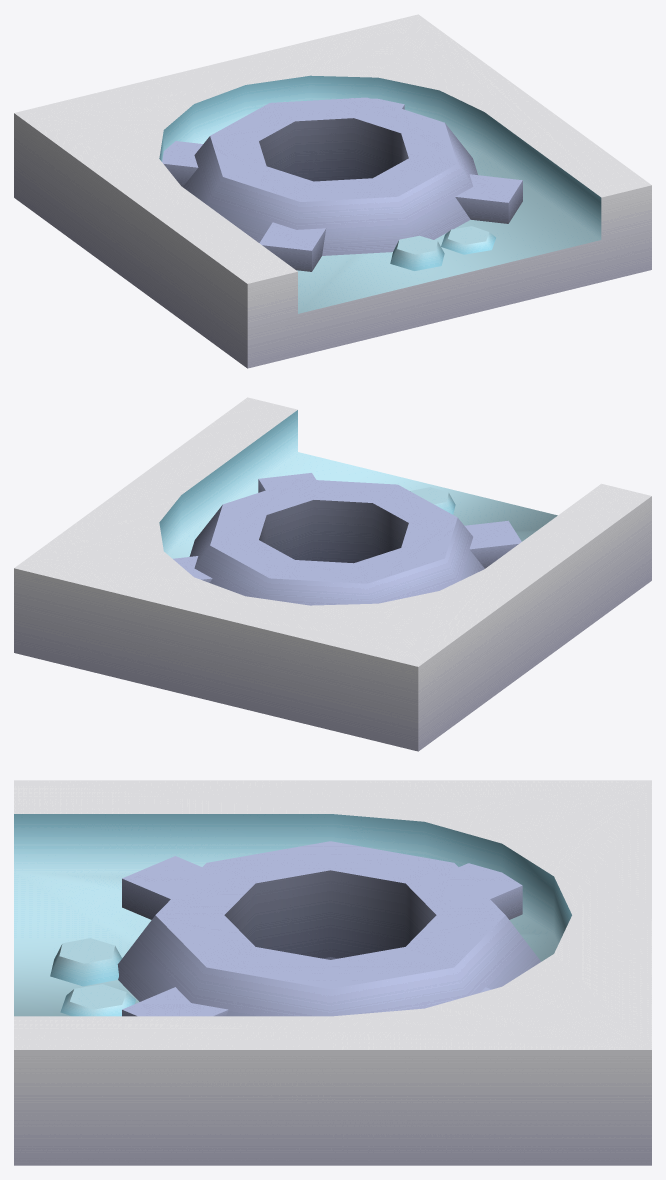
The model's file is snow-tile-spawn-end-round.glb.
The picture shows the model from 3 angles, top to bottom: view 1: azimuth 30°, elevation 25°; view 2: azimuth 150°, elevation 25°; view 3: azimuth 270°, elevation 25°; orthographic projection. The views are drawn at different scales.
Visible parts, largest first — view 1: snow-tile-spawn-end-round; view 2: snow-tile-spawn-end-round; view 3: snow-tile-spawn-end-round.
Boxes of the visible parts, x1,y1,x2,y2 form: snow-tile-spawn-end-round: [14, 14, 651, 368]; snow-tile-spawn-end-round: [14, 397, 651, 751]; snow-tile-spawn-end-round: [14, 780, 651, 1165].
Size of the model in its own units: 1 by 0.2 by 1.
Materials: 1 (1 with a texture image).
